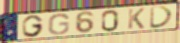0: (101, 8, 121, 32)
6: (75, 10, 96, 34)
D: (150, 5, 176, 30)
G: (47, 12, 71, 36), (22, 14, 45, 38)
K: (127, 7, 146, 30)
